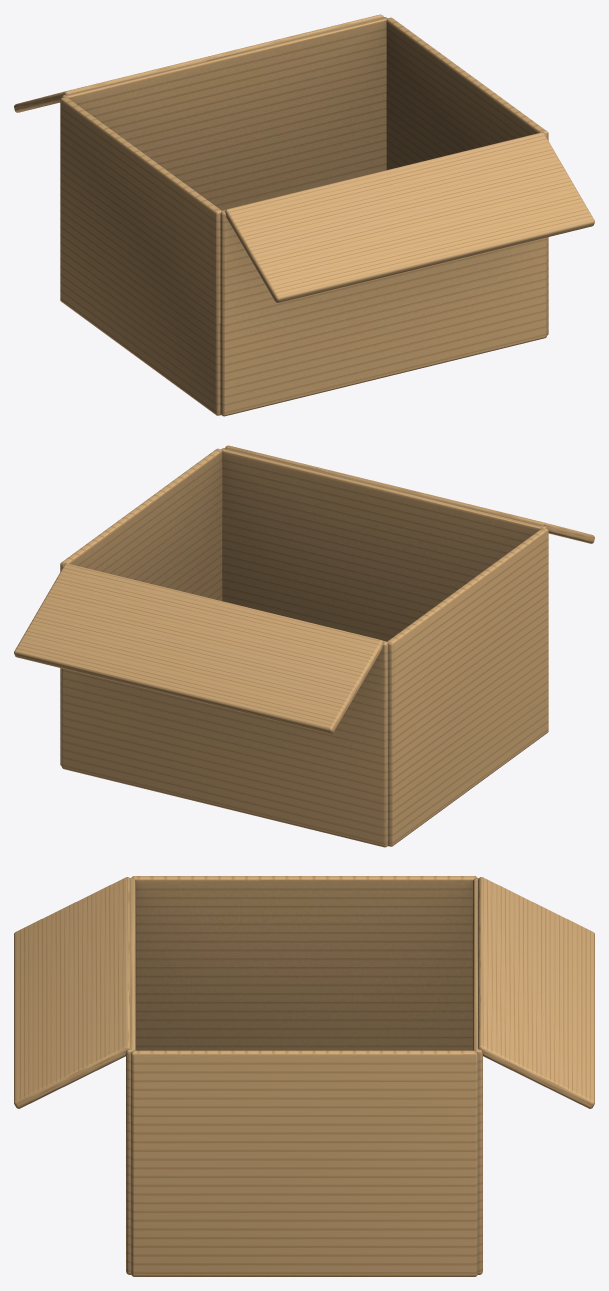
File: paper_box.glb
3 renders of one model, top to bottom at view 1: azimuth 30°, elevation 25°; view 2: azimuth 150°, elevation 25°; view 3: azimuth 270°, elevation 25°, orthographic. The views are drawn at different scales.
Parts seen in each view (by area): view 1: paper_box; view 2: paper_box; view 3: paper_box.
Part boxes in pixels (x1=…): paper_box: x1=14, y1=14, x2=594, y2=416; paper_box: x1=14, y1=445, x2=594, y2=847; paper_box: x1=14, y1=876, x2=594, y2=1276.
Bounding box in the file's own units: 0.512 × 0.3038 × 0.7036.
1 material, 1 textured.
